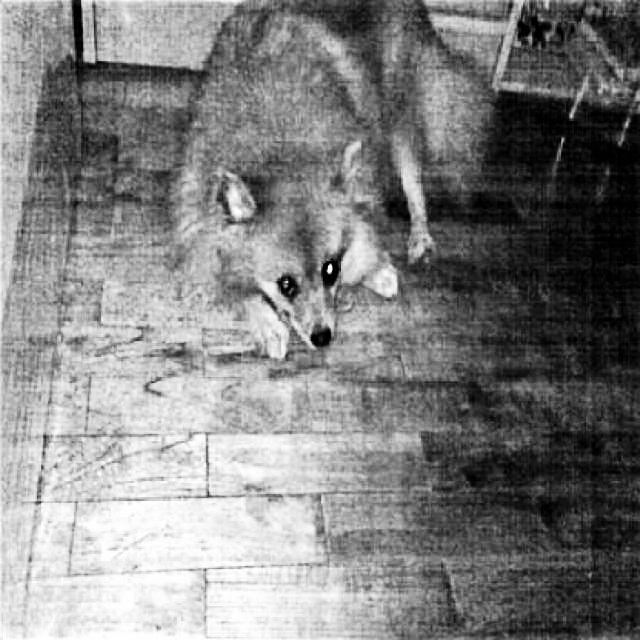Dog: (165, 0, 496, 374)
